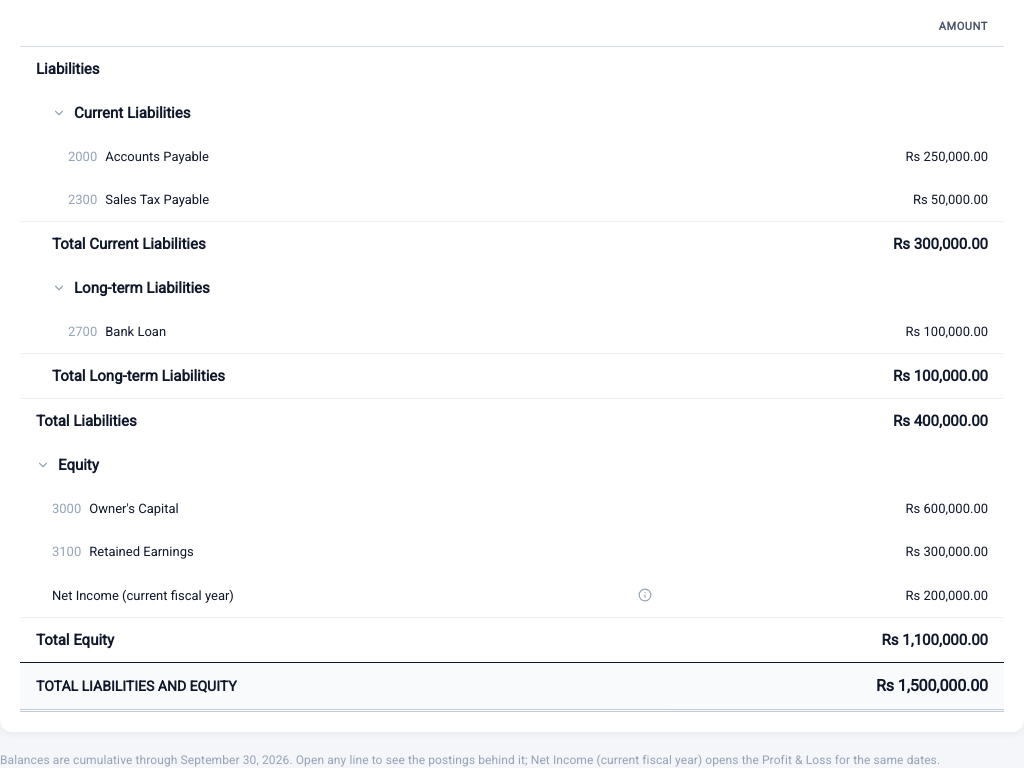
Scenario: BalanceSheetPage (reports v2) › opens the retained earnings rollforward, which totals the line
This screenshot has width=1024, height=768.
(page scrolled)
Click the button with aria-label "Retained Earnings, 300,000.00" at (141, 552), box [52,542,655,561]
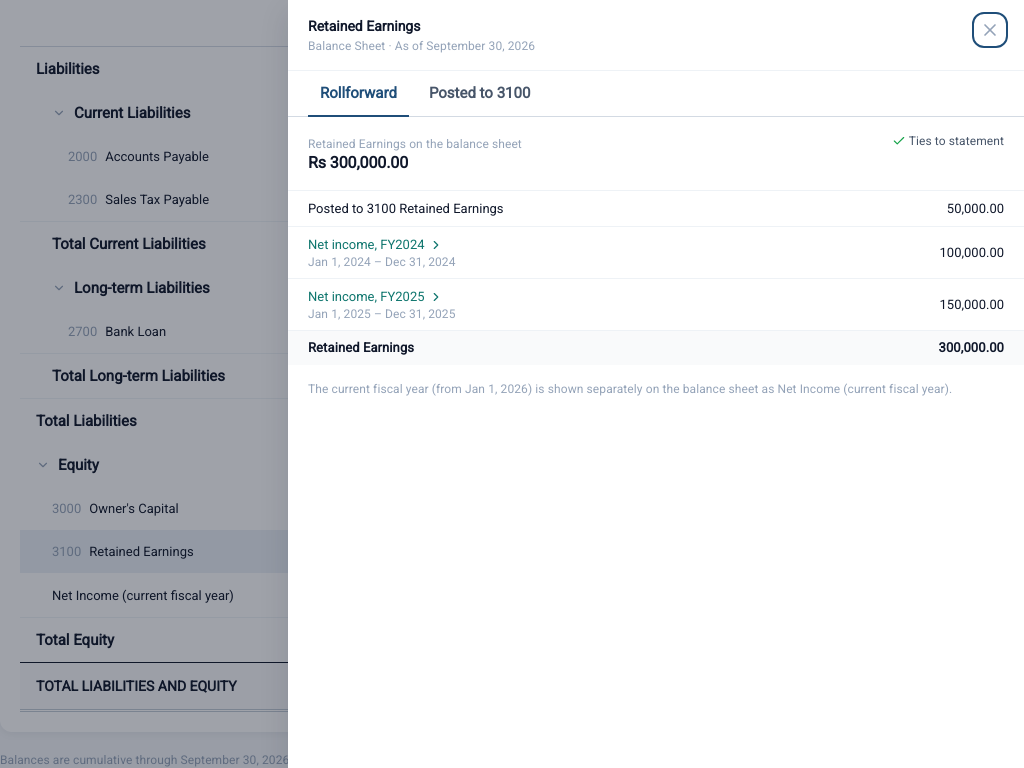
Expected: the link "Net income, FY2025" is shown, [308,287,442,306]
Expected: the text "Ties to statement" is shown, [892,133,1004,149]
